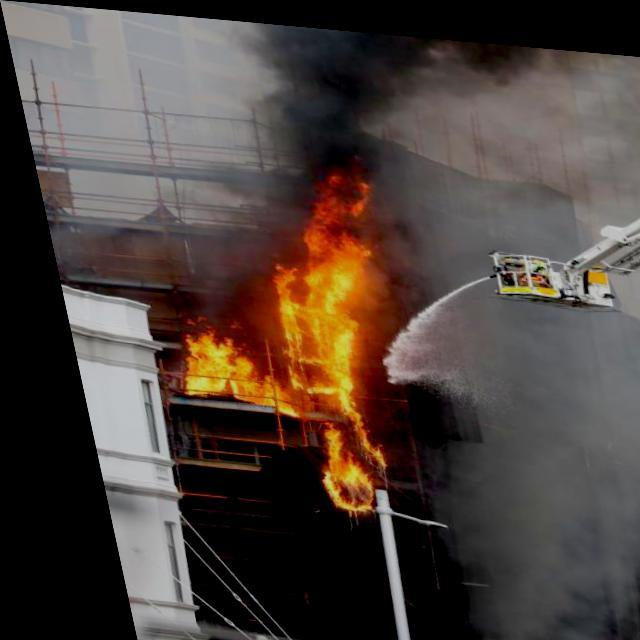Fire: (121, 138, 403, 509)
